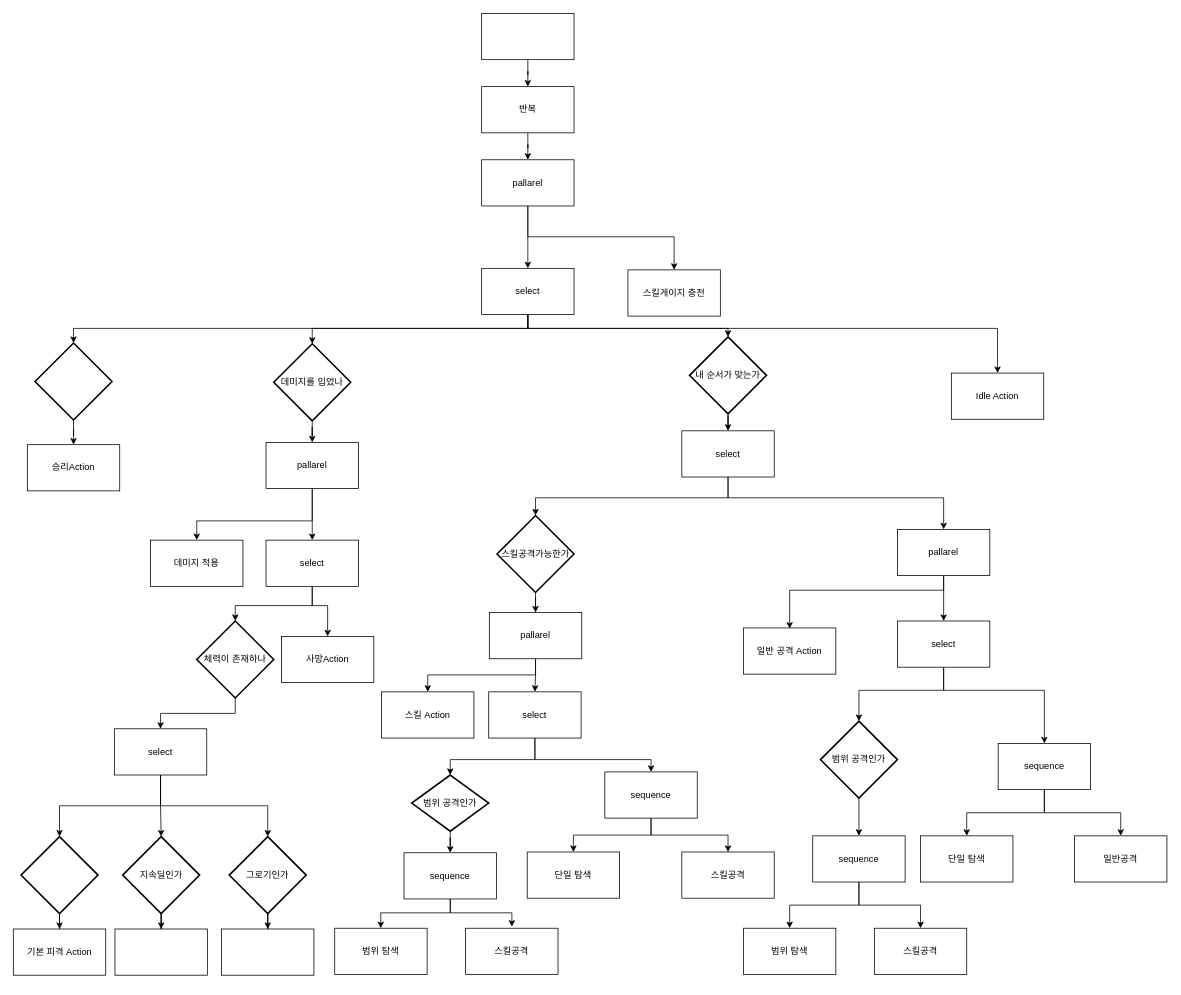
This 1181x995 diagram has some shape labels left out. Here are the shapes that lost their labels. From the top down, the box of each, then its label:
(481, 13, 574, 60): 루트
(34, 342, 112, 420): 전투에 승리했나
(20, 835, 98, 914): 타격당했나
(114, 928, 207, 975): 지속딜 피격 Action
(221, 928, 314, 975): 그로기 Action
